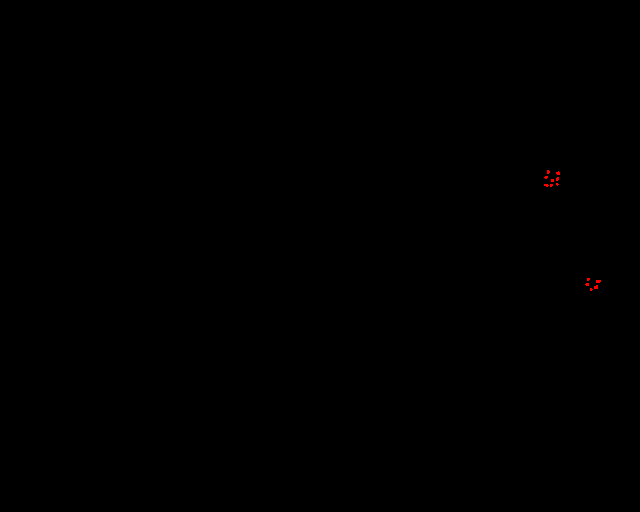Target: (556, 171, 560, 175), (594, 285, 598, 289), (544, 184, 549, 187), (596, 280, 601, 283), (547, 170, 550, 174), (544, 176, 548, 179), (556, 177, 559, 181), (585, 283, 589, 286), (551, 179, 554, 182), (556, 183, 559, 186), (550, 184, 553, 187), (587, 278, 590, 281), (590, 288, 593, 291)
